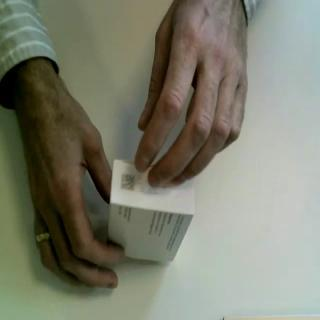dolcontin5mg: (108, 158, 198, 268)
